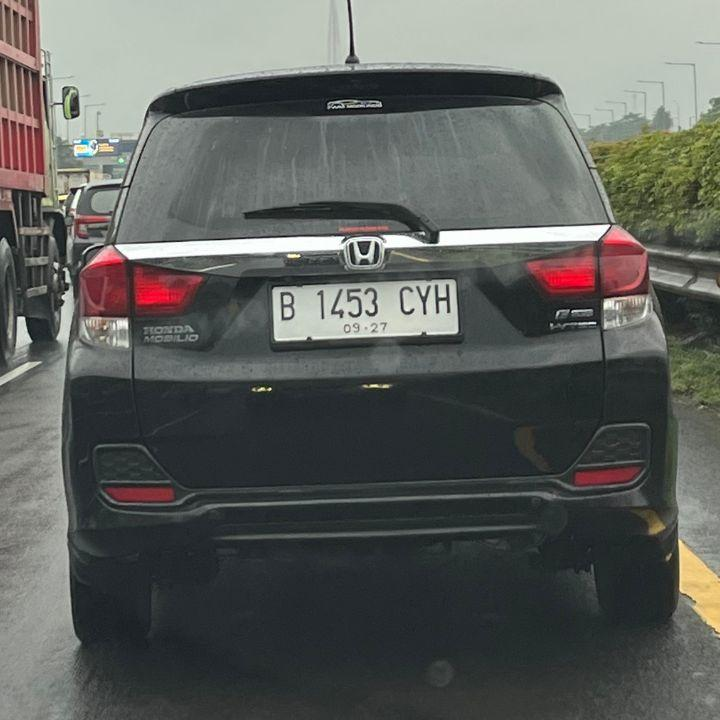plat: (273, 278, 460, 343)
